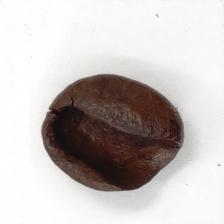NG: (86, 117, 185, 192), (40, 92, 88, 169)
